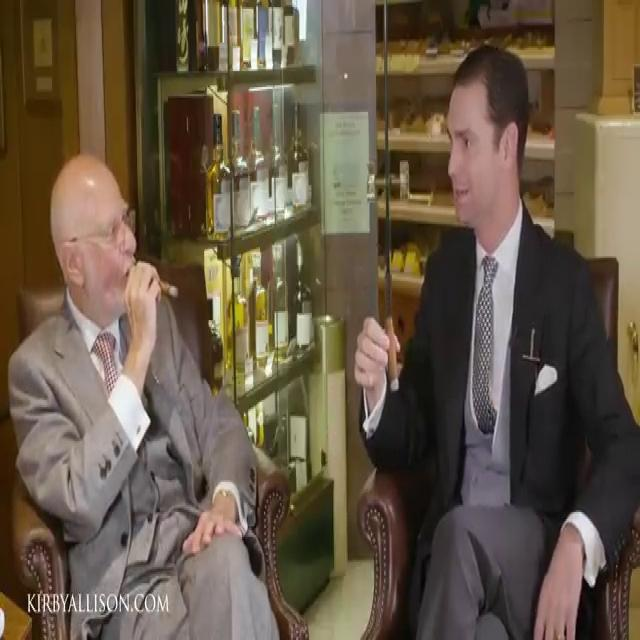Smooking: (385, 307, 404, 401), (161, 265, 181, 308)
